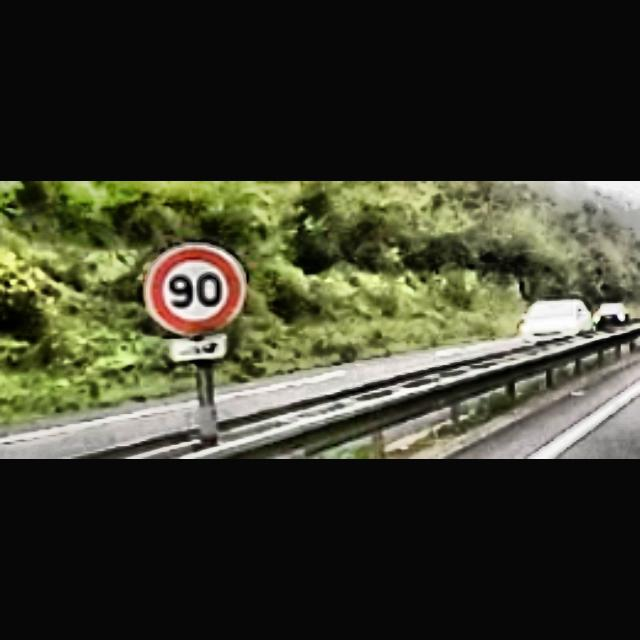speed_90: (144, 242, 246, 338)
